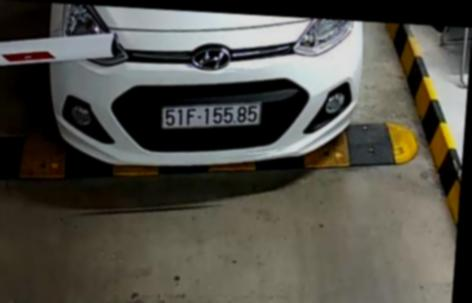License_Plate: (156, 96, 266, 137)
